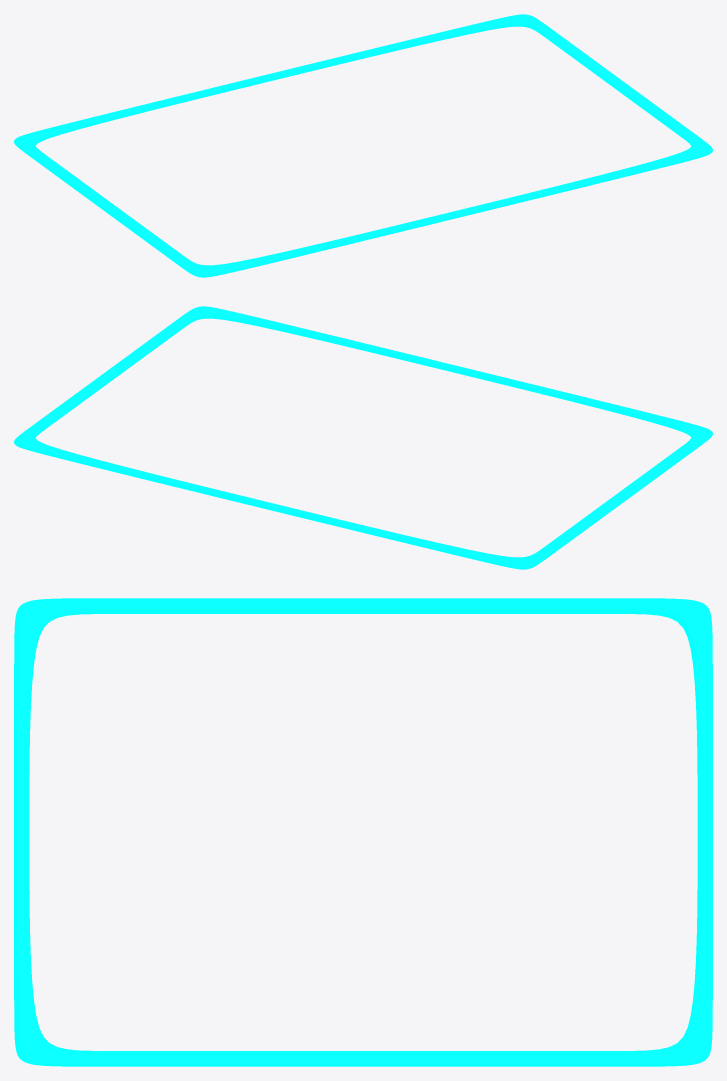
File: BoundingBox.fbx
The picture shows the model from 3 angles, top to bottom: view 1: azimuth 30°, elevation 25°; view 2: azimuth 150°, elevation 25°; view 3: azimuth 270°, elevation 25°; orthographic projection. The views are drawn at different scales.
Visible parts, largest first — view 1: Cube; view 2: Cube; view 3: Cube.
Part boxes in pixels (<box>): Cube: <box>14,14,712,277</box>; Cube: <box>14,306,712,569</box>; Cube: <box>14,598,712,1066</box>.
Size of the model in its own units: 313 by 3.44 by 200.
